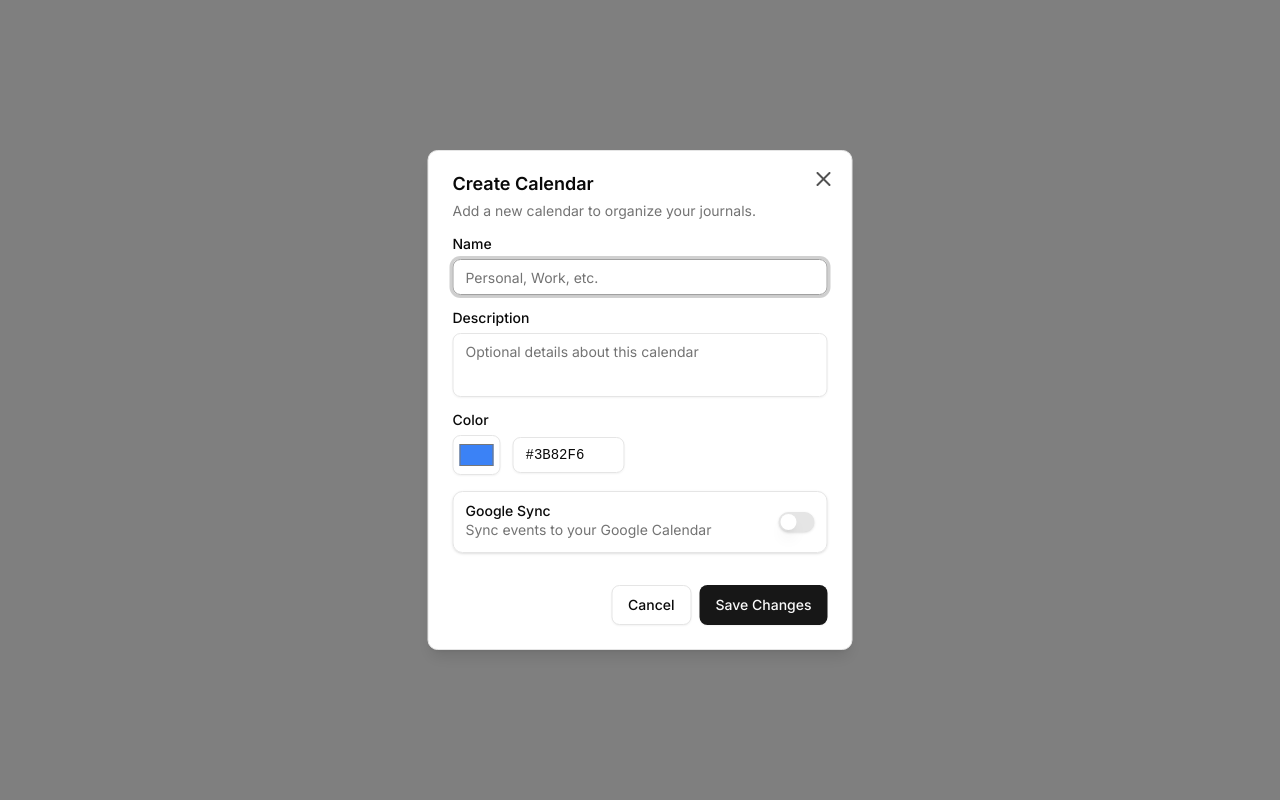
Test: CalendarSettingsDialog › read-only Google calendars › marks read-only calendars in the list before one is chosen
Step 1. Click the switch with test id "google-sync-toggle" → (796, 522), box [778,512,814,532]
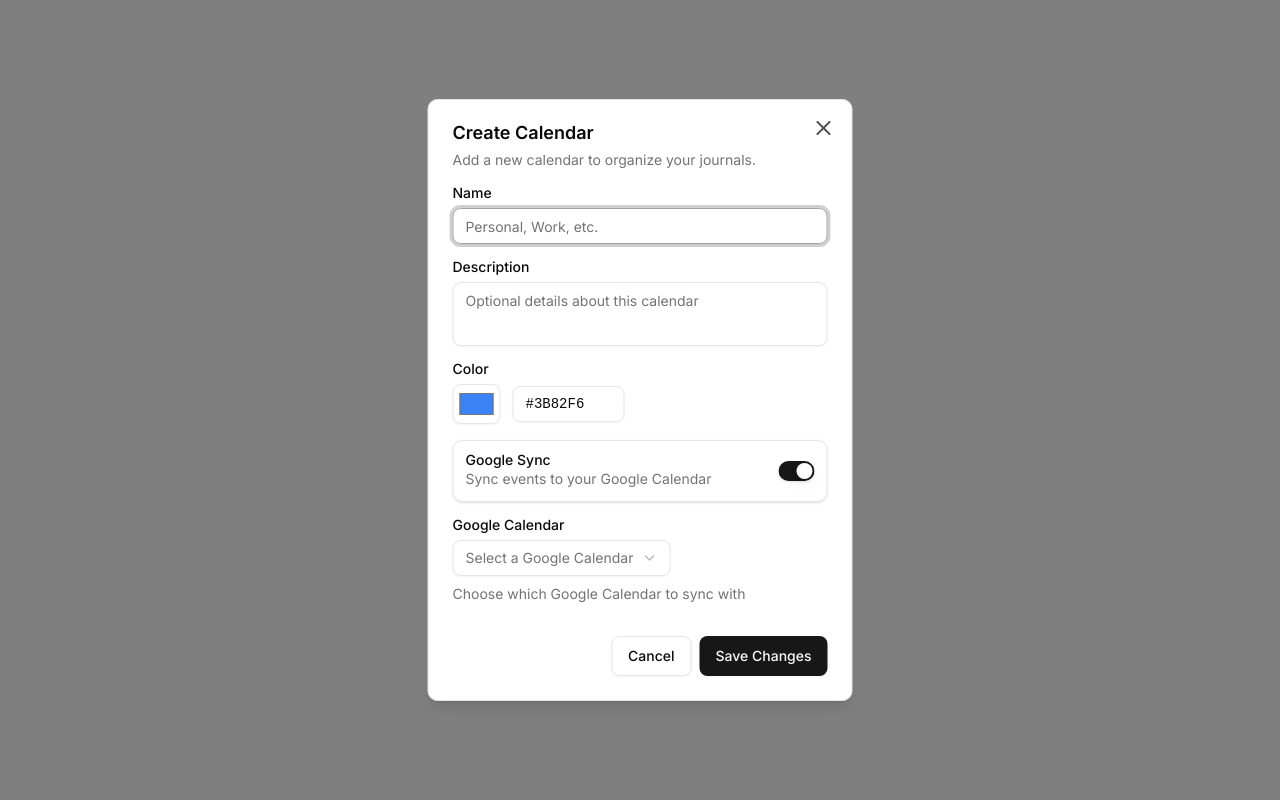
Step 2. Click the dropdown with test id "google-calendar-select" → (562, 558), box [452,540,670,576]
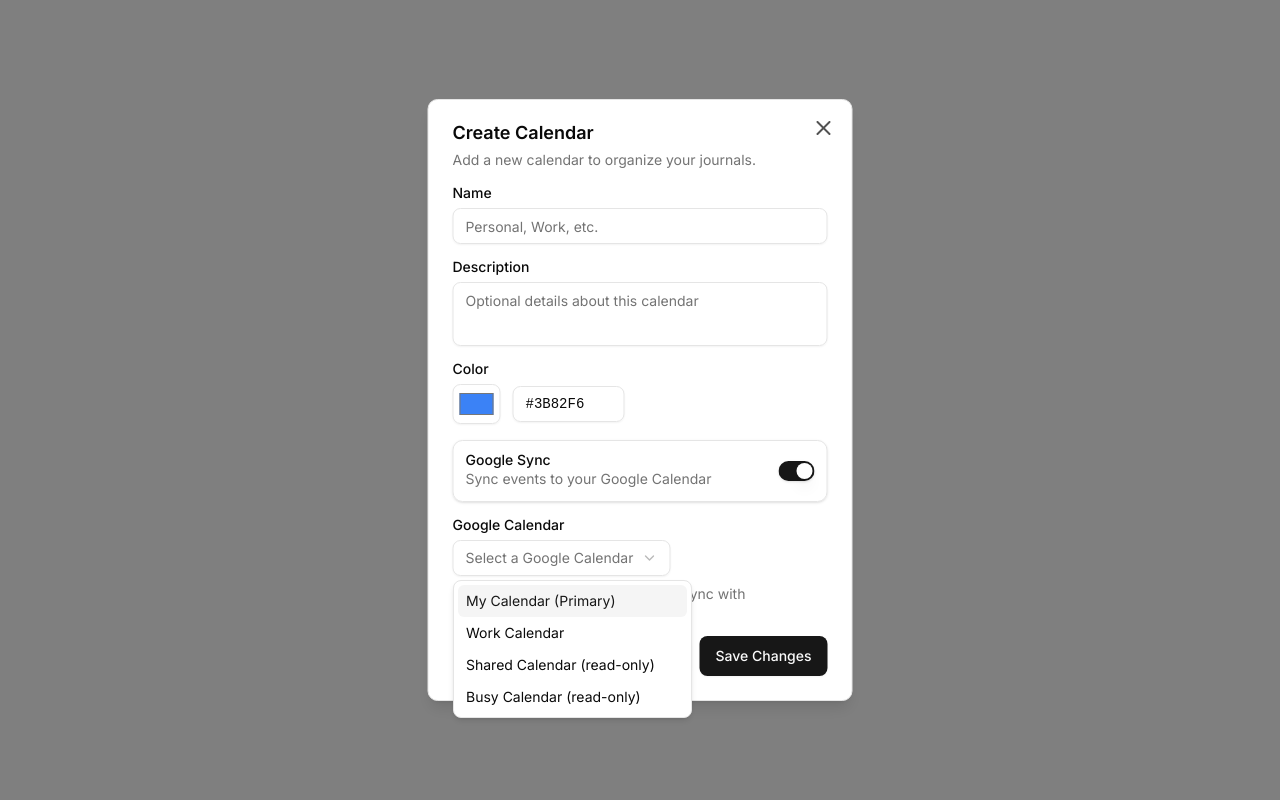
Check: the option "Shared Calendar (read-only)" is shown, box [466,656,655,673]
Check: the option "Work Calendar" is shown, box [466,624,564,641]
